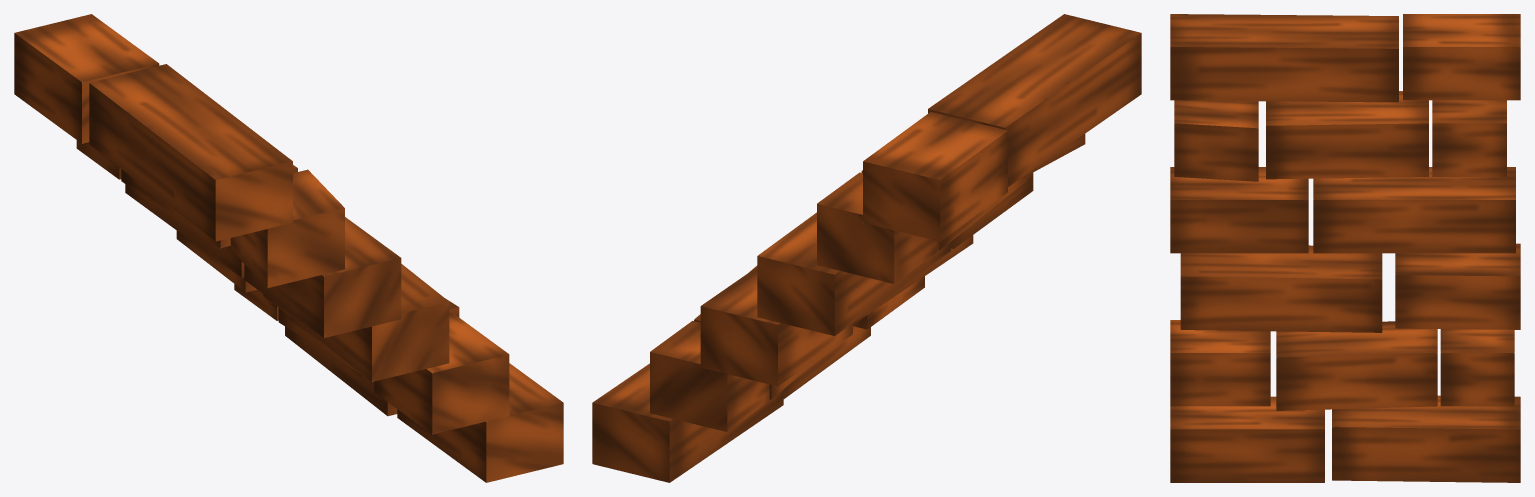
File: escada madeira.fbx
The picture shows the model from 3 angles, left to right: view 1: azimuth 30°, elevation 25°; view 2: azimuth 150°, elevation 25°; view 3: azimuth 270°, elevation 25°; orthographic projection. The views are drawn at different scales.
Visible parts, largest first — view 1: ESCADA.001; view 2: ESCADA.001; view 3: ESCADA.001.
Boxes of the visible parts, <box> form: ESCADA.001: <box>14,14,563,482</box>; ESCADA.001: <box>592,14,1141,482</box>; ESCADA.001: <box>1170,14,1520,482</box>.
Size of the model in its own units: 99.89 by 101 by 100.
Materials: 1 (1 with a texture image).
